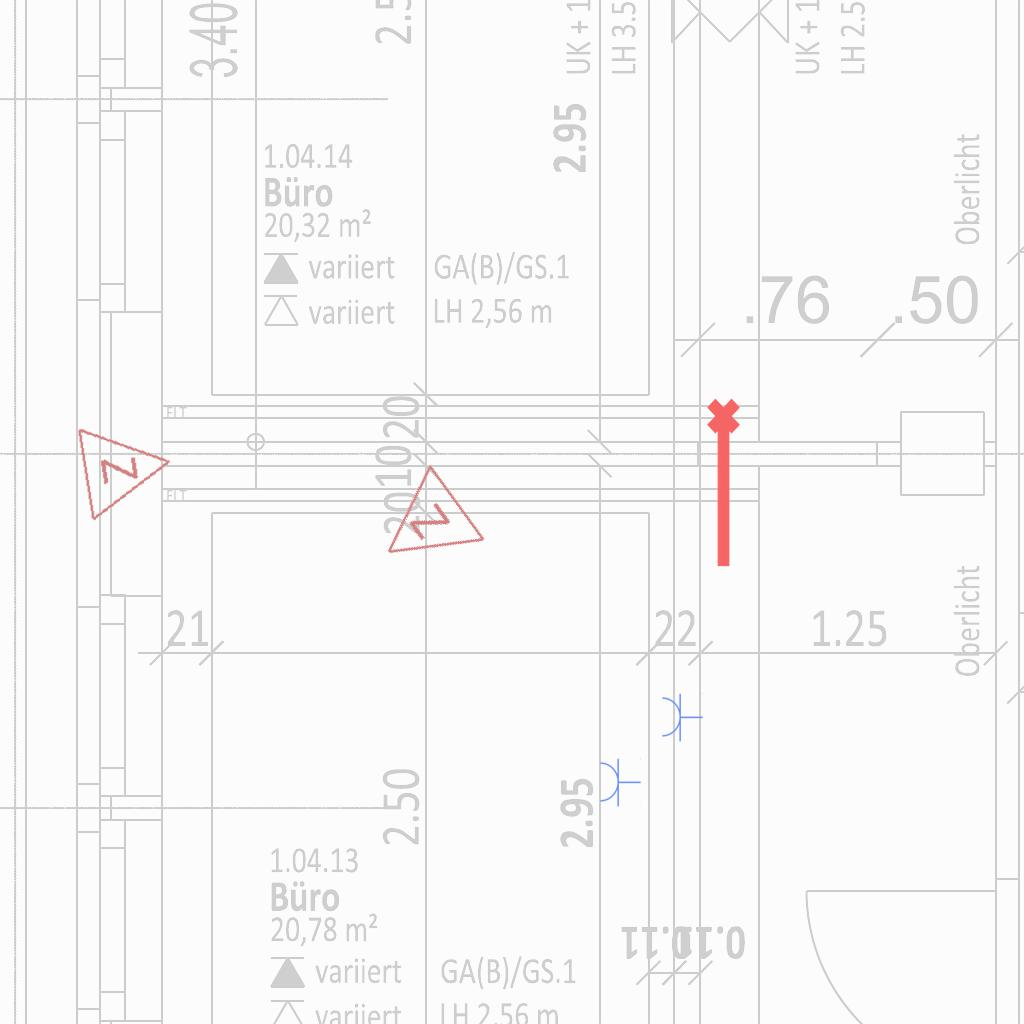ASR_Ansaugoeffnung: (703, 396, 749, 572)
Schukosteckdose_einfach: (598, 757, 641, 807), (660, 692, 703, 742)
Zimmersignalleuchte: (354, 458, 494, 598), (69, 410, 185, 524)
